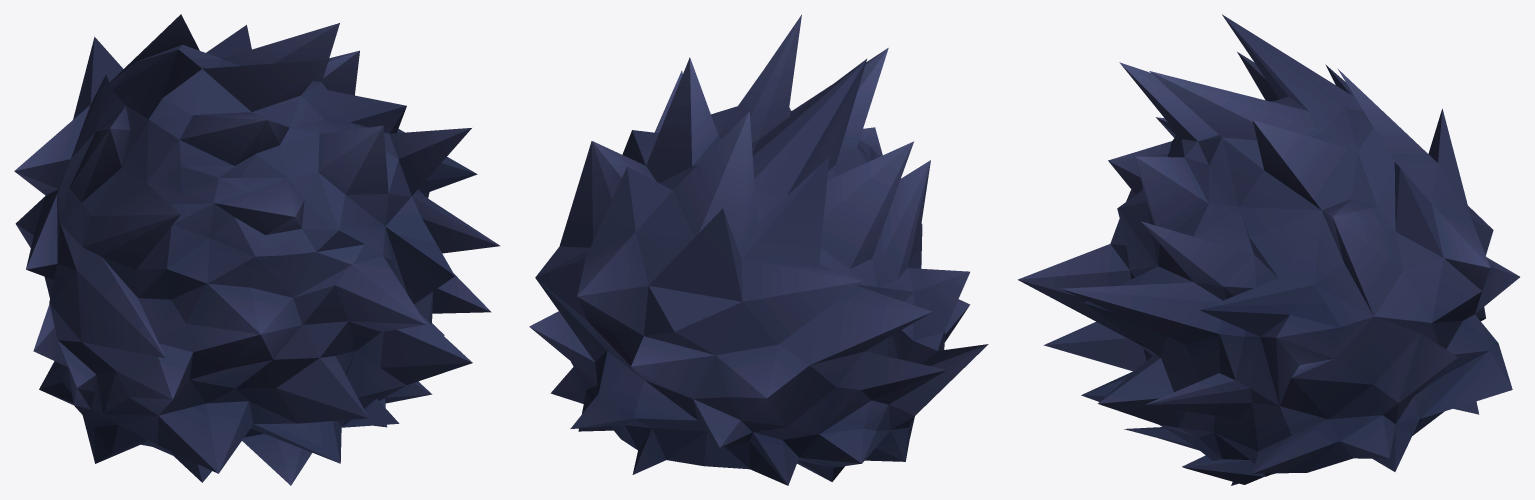
The model's file is CharSkyKid_Hair_MischiefSmoked.glb.
The picture shows the model from 3 angles, left to right: view 1: azimuth 30°, elevation 25°; view 2: azimuth 150°, elevation 25°; view 3: azimuth 270°, elevation 25°; orthographic projection. The views are drawn at different scales.
Visible parts, largest first — view 1: CharSkyKid_Hair_MischiefSmoked; view 2: CharSkyKid_Hair_MischiefSmoked; view 3: CharSkyKid_Hair_MischiefSmoked.
Boxes of the visible parts, bbox=[...] form: CharSkyKid_Hair_MischiefSmoked: bbox=[14, 14, 499, 485]; CharSkyKid_Hair_MischiefSmoked: bbox=[529, 14, 988, 485]; CharSkyKid_Hair_MischiefSmoked: bbox=[1018, 14, 1519, 485].
Bounding box in the file's own units: 5.24 × 5.37 × 6.1.
1 material, 1 textured.
